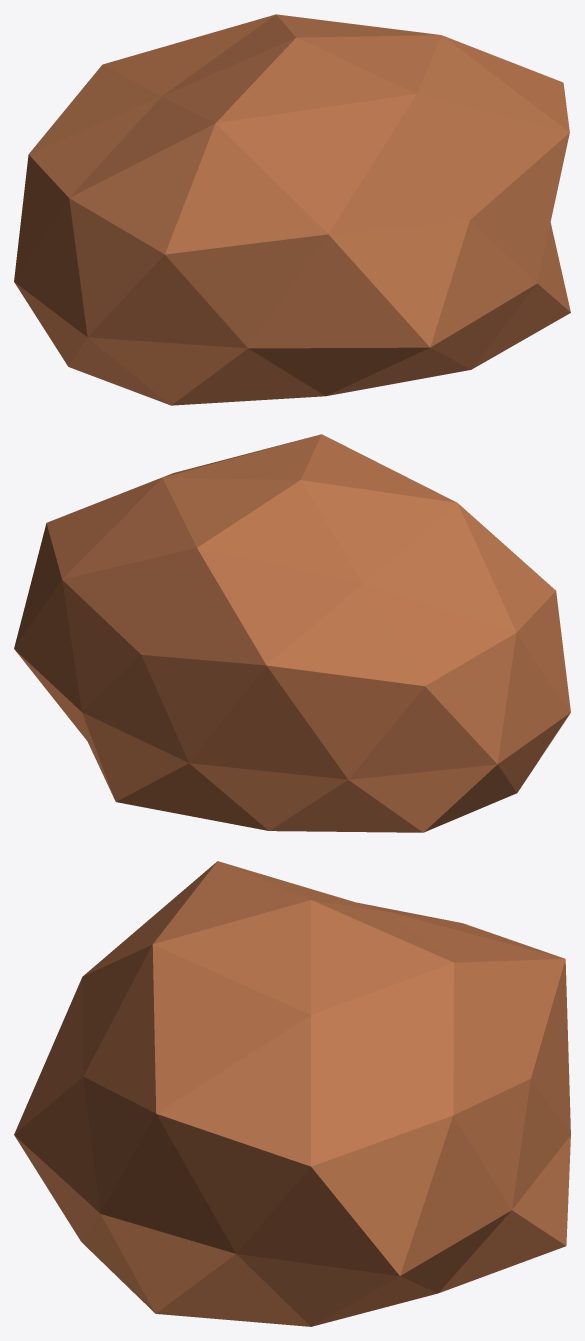
Rendered from boulder_a.fbx.
The picture shows the model from 3 angles, top to bottom: view 1: azimuth 30°, elevation 25°; view 2: azimuth 150°, elevation 25°; view 3: azimuth 270°, elevation 25°; orthographic projection. The views are drawn at different scales.
Parts seen in each view (by area): view 1: Boulder_A; view 2: Boulder_A; view 3: Boulder_A.
Boxes of the visible parts, x1,y1,x2,y2 form: Boulder_A: (14,14,570,405); Boulder_A: (14,434,570,832); Boulder_A: (14,861,570,1326).
Bounding box in the file's own units: 418 × 213 × 354.
